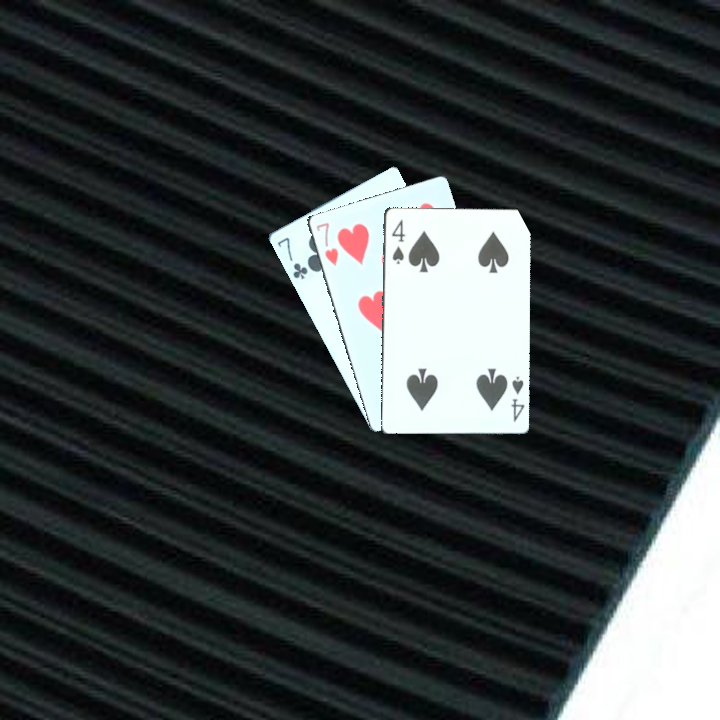4s: (388, 216, 408, 267), (507, 373, 526, 424)
7c: (273, 233, 310, 282)
7h: (312, 218, 341, 269)
